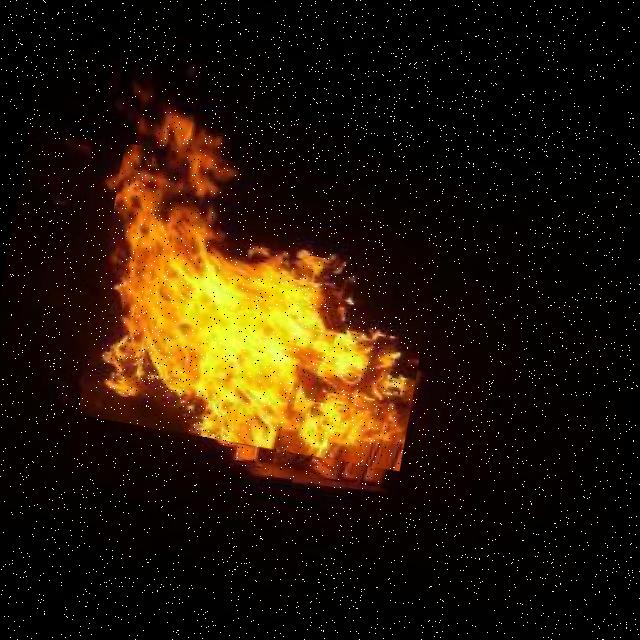fire: (77, 142, 447, 471)
